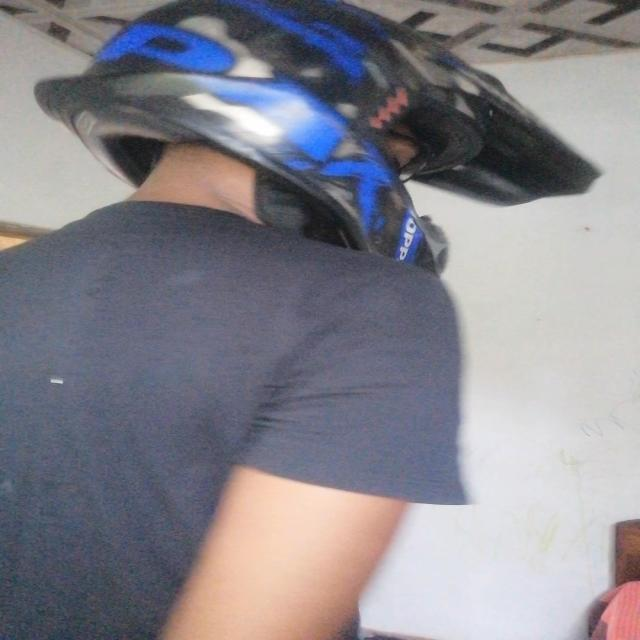Helmet_Wearer: (57, 0, 598, 312)
